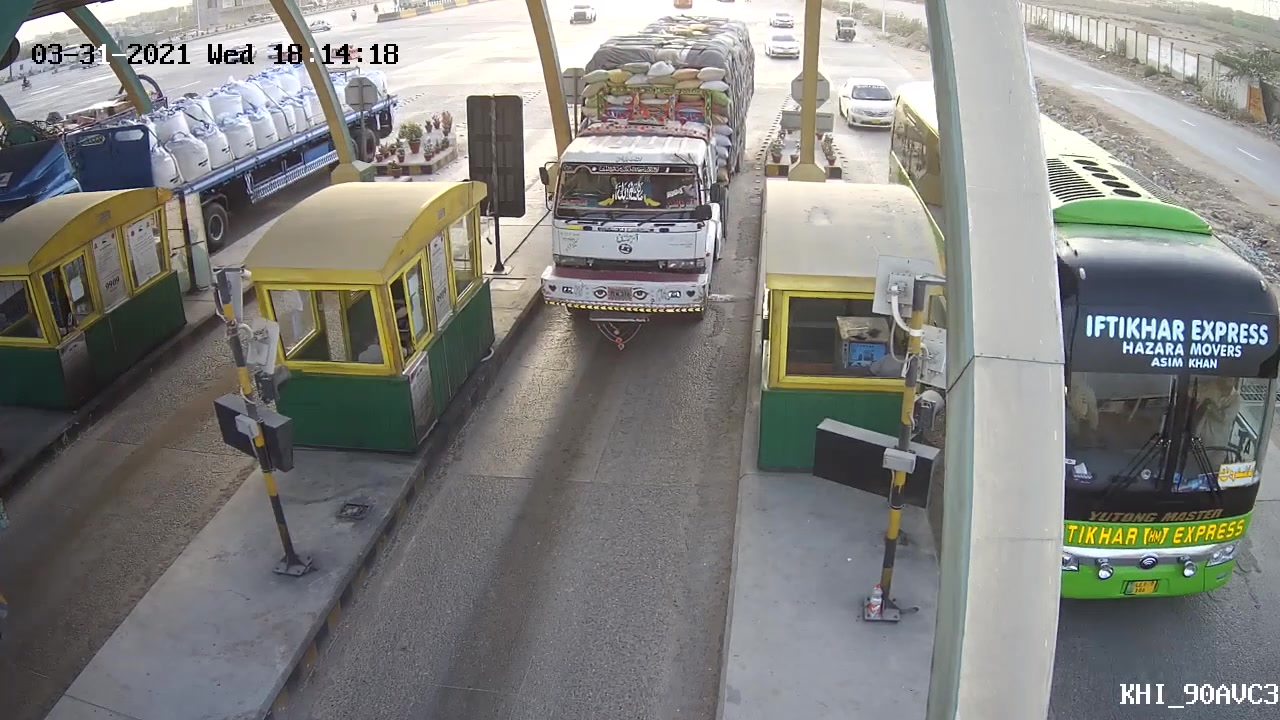F6: (536, 14, 760, 334)
